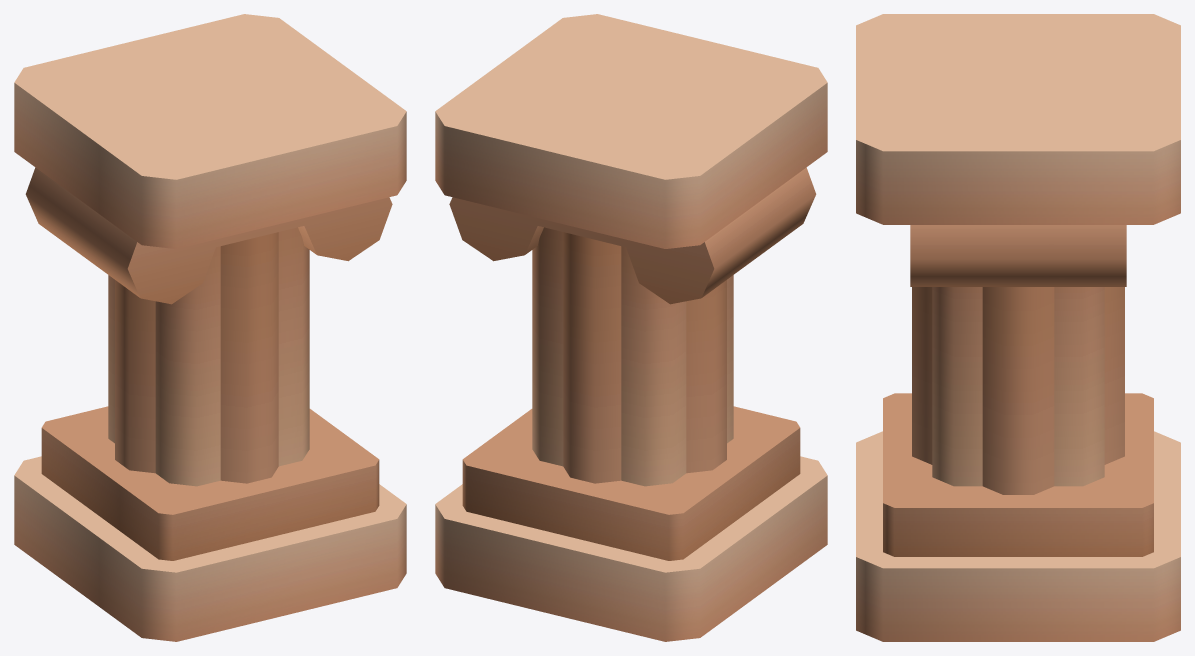
File: k-mini-arena-column.glb
3 views of the same model, side by side, from view 1: azimuth 30°, elevation 25°; view 2: azimuth 150°, elevation 25°; view 3: azimuth 270°, elevation 25° (orthographic). The views are drawn at different scales.
Parts seen in each view (by area): view 1: column; view 2: column; view 3: column.
Boxes of the visible parts, bbox=[...] form: column: bbox=[14, 14, 406, 641]; column: bbox=[435, 14, 827, 641]; column: bbox=[856, 14, 1180, 641].
Bounding box in the file's own units: 0.6031 × 1 × 0.6001.
1 material, 1 textured.
